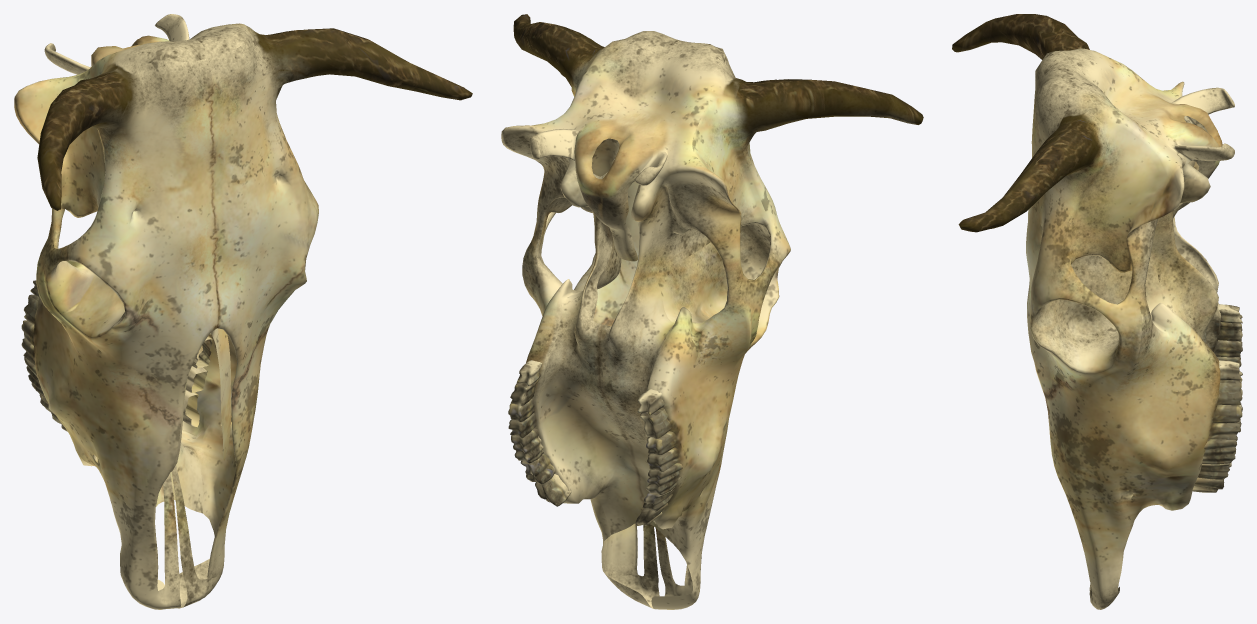
File: v2_craneo_vaca.glb
3 views of the same model, side by side, from view 1: azimuth 30°, elevation 25°; view 2: azimuth 150°, elevation 25°; view 3: azimuth 270°, elevation 25° (orthographic). The views are drawn at different scales.
Visible parts, largest first — view 1: B_LP_2; view 2: B_LP_2; view 3: B_LP_2.
Boxes of the visible parts, bbox=[...] form: B_LP_2: bbox=[14, 14, 472, 609]; B_LP_2: bbox=[501, 14, 923, 609]; B_LP_2: bbox=[952, 14, 1242, 609].
Bounding box in the file's own units: 3.72 × 4.9 × 2.41.
Materials: 1 (1 with a texture image).
